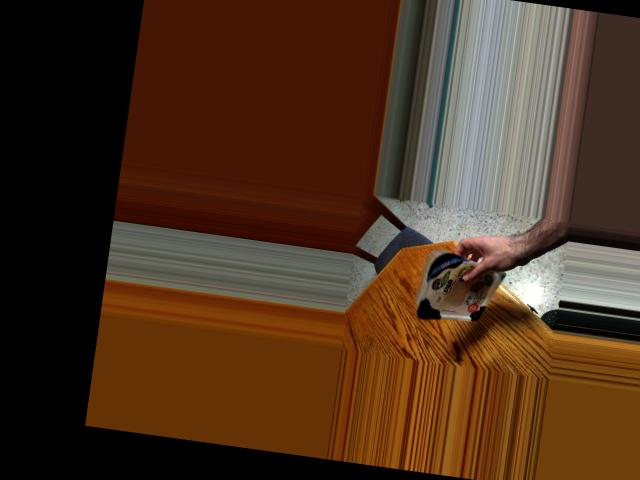cheese: (409, 245, 492, 322)
